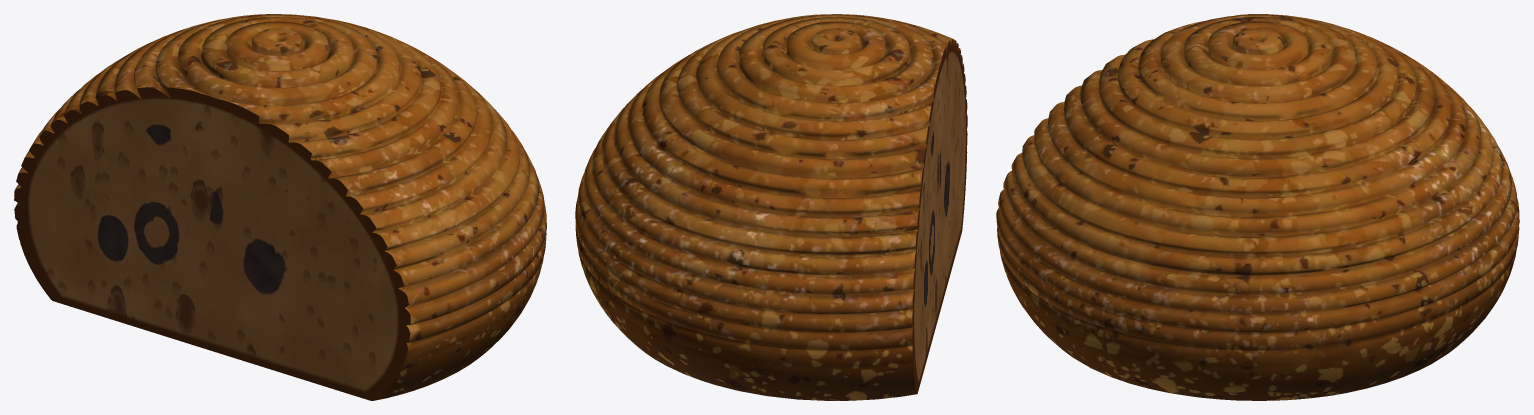
File: wholewheat--olive-flesh.glb
3 views of the same model, side by side, from view 1: azimuth 30°, elevation 25°; view 2: azimuth 150°, elevation 25°; view 3: azimuth 270°, elevation 25° (orthographic). The views are drawn at different scales.
Parts seen in each view (by area): view 1: wholewheat_olive-flesh; view 2: wholewheat_olive-flesh; view 3: wholewheat_olive-flesh.
Part boxes in pixels (x1=…): wholewheat_olive-flesh: x1=14, y1=14, x2=546, y2=400; wholewheat_olive-flesh: x1=575, y1=14, x2=967, y2=400; wholewheat_olive-flesh: x1=996, y1=14, x2=1519, y2=400.
Bounding box in the file's own units: 0.8681 × 0.5691 × 0.998.
1 material, 1 textured.
